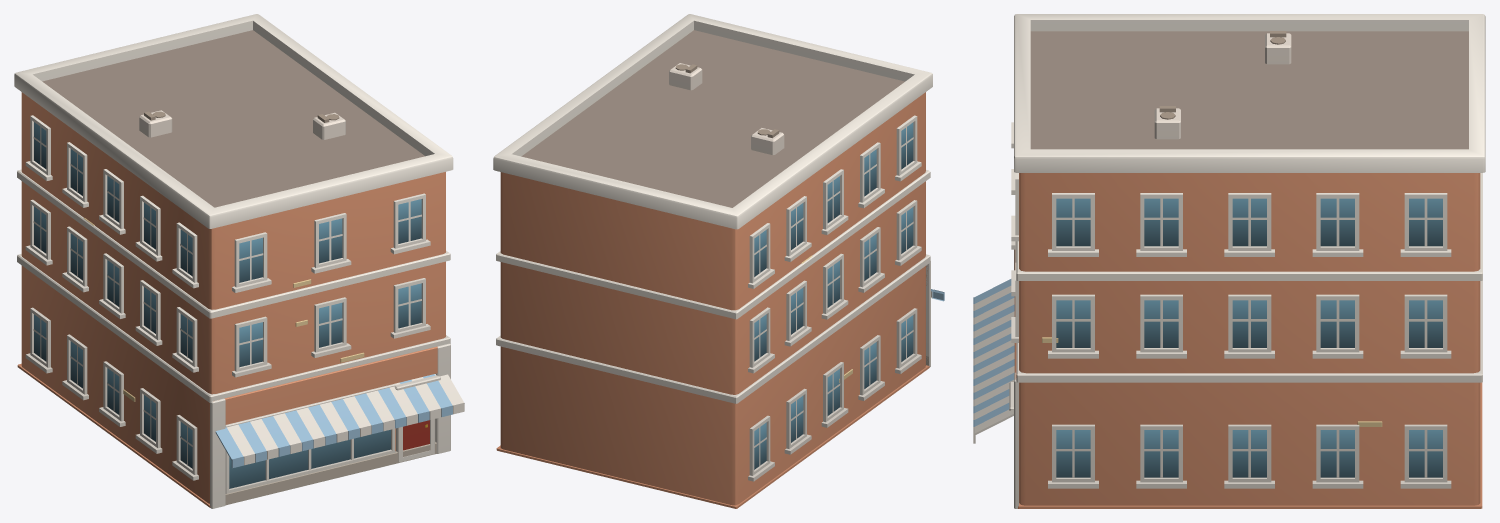
File: boylston_s0.glb
3 renders of one model, left to right at view 1: azimuth 30°, elevation 25°; view 2: azimuth 150°, elevation 25°; view 3: azimuth 270°, elevation 25°, orthographic. The views are drawn at different scales.
Parts seen in each view (by area): view 1: boylston_s0; view 2: boylston_s0; view 3: boylston_s0.
Boxes of the visible parts, x1,y1,x2,y2 form: boylston_s0: [14, 14, 464, 508]; boylston_s0: [493, 14, 944, 508]; boylston_s0: [973, 14, 1485, 508].
Size of the model in its own units: 10.48 by 12.19 by 15.55.
1 material, 1 textured.
